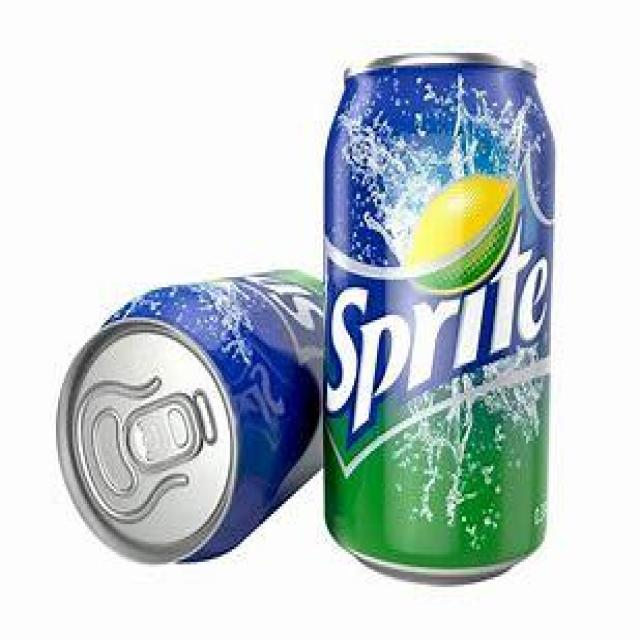can: (323, 50, 558, 585), (56, 267, 331, 563)
pop tab: (122, 391, 205, 472)
